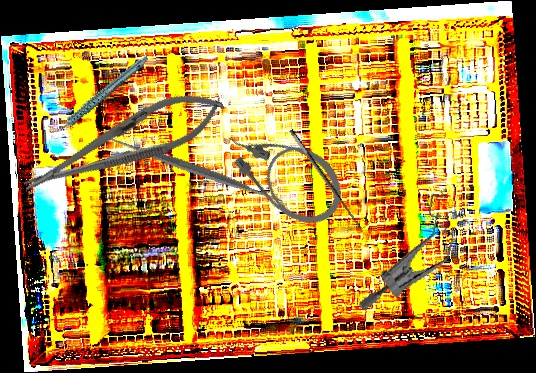Cannula: (214, 103, 356, 239)
Handpiece: (39, 55, 160, 136)
Hook Surgical: (287, 123, 371, 233)
Needle Holder: (14, 78, 232, 209)
Spatula Surgical: (103, 80, 288, 260)
Speculum: (357, 177, 467, 327)
